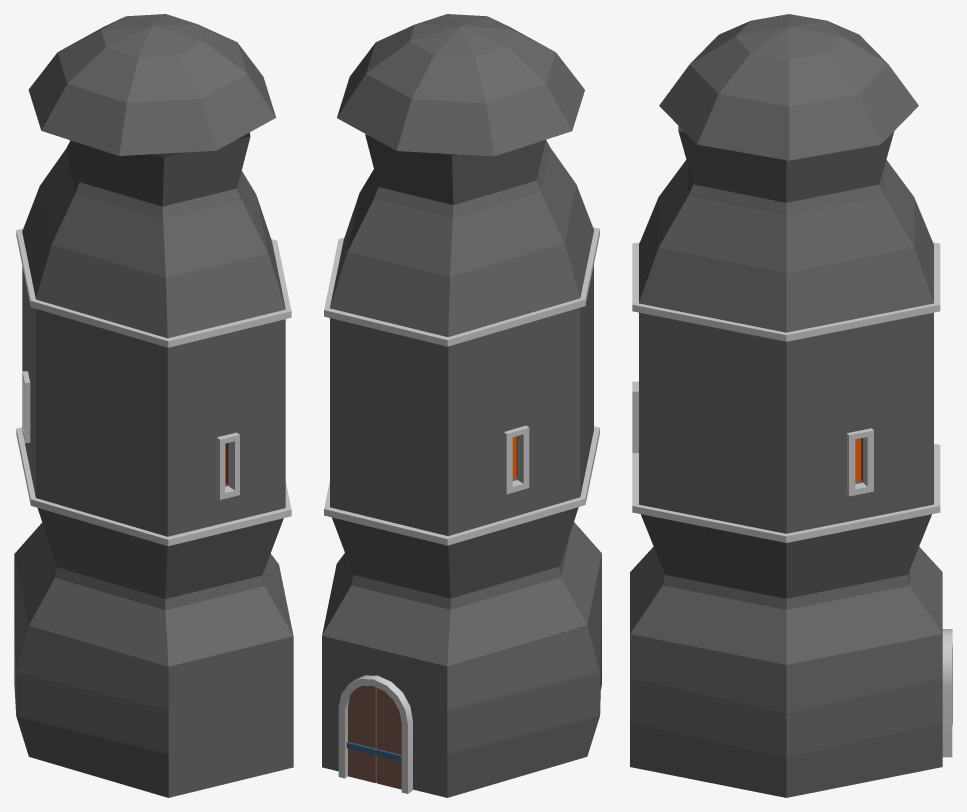
The model's file is tower_ville.fbx.
3 views of the same model, side by side, from view 1: azimuth 30°, elevation 25°; view 2: azimuth 150°, elevation 25°; view 3: azimuth 270°, elevation 25° (orthographic).
Visible parts, largest first — view 1: citadel_tower_d; view 2: citadel_tower_d; view 3: citadel_tower_d.
Part boxes in pixels (x1,y1,x2,y2): citadel_tower_d: (14, 14, 293, 797); citadel_tower_d: (322, 14, 601, 797); citadel_tower_d: (630, 14, 952, 797).
Bounding box in the file's own units: 777 × 1918 × 790.
